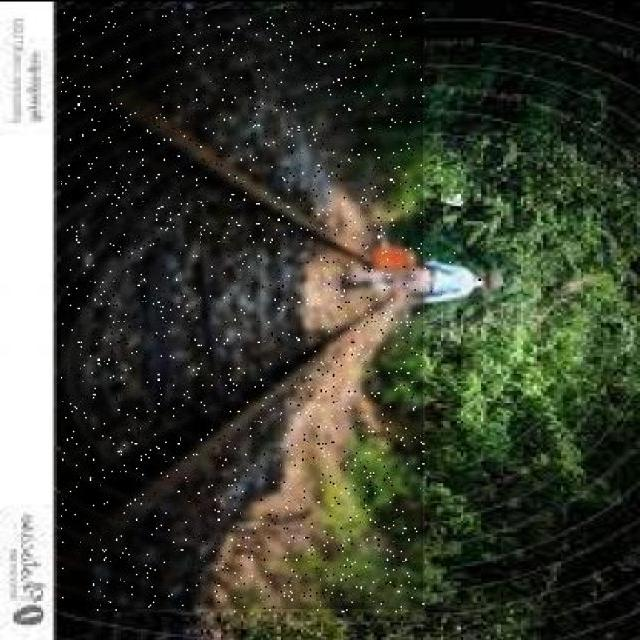rail: (62, 11, 424, 610)
